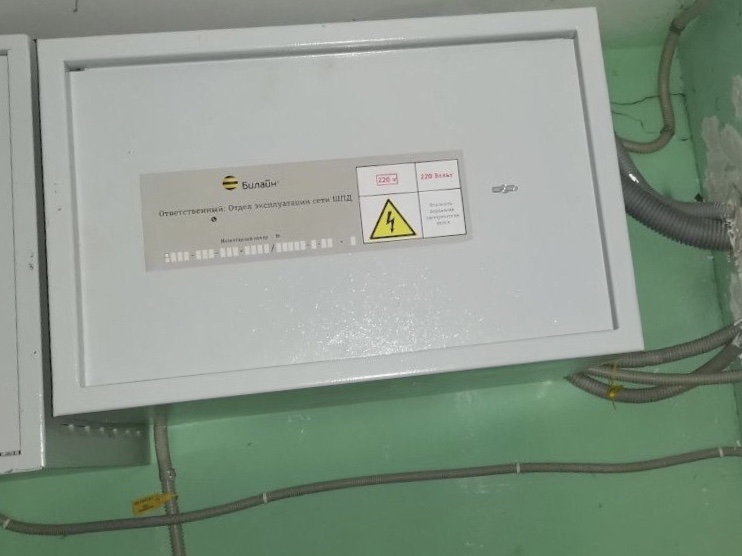shta-7m: (36, 1, 656, 429)
